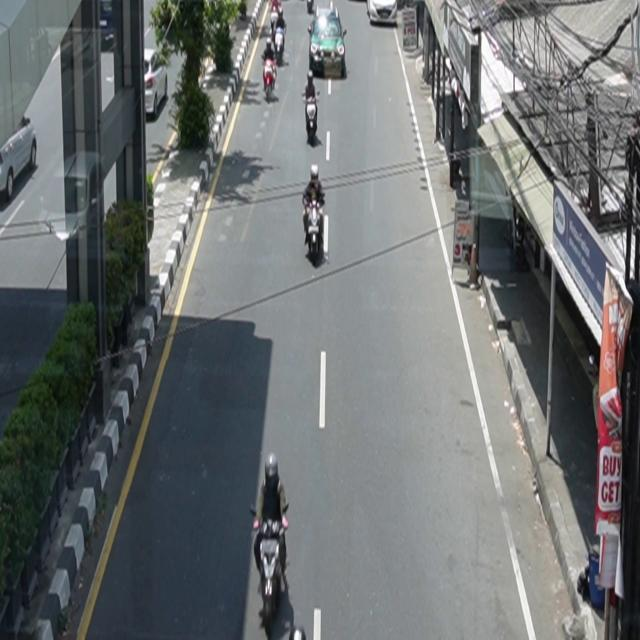car: (1, 116, 38, 203), (308, 6, 348, 79), (145, 49, 169, 118), (368, 1, 398, 26)
